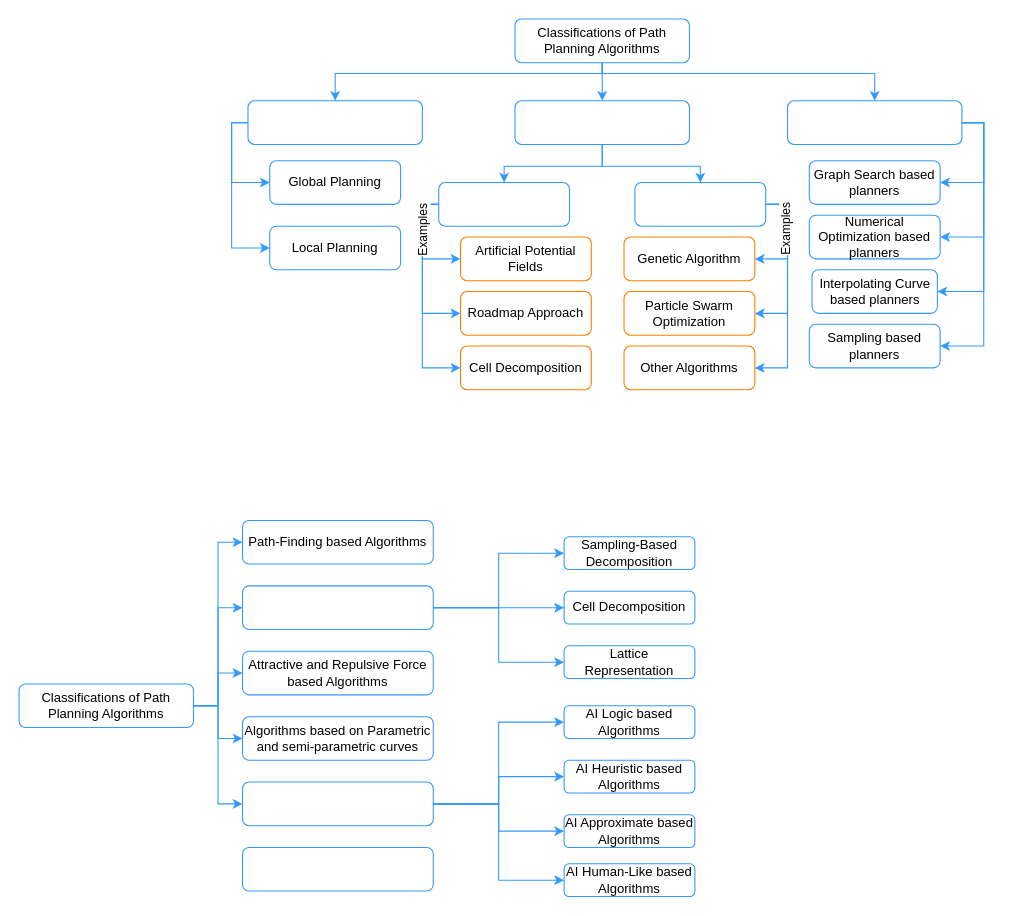
Some shapes in this 1012 by 916 pixel diagram are drawn without their labels. The shapes that lost their labels are listed below. From the top down, each one's centre as x and y in pixels, then its label:
At point (334, 122): "Classification based on scope of planning".
At point (601, 122): "Classification based on approach".
At point (874, 122): "Classification based on Algorithm groups".
At point (504, 203): "Classical Approaches".
At point (700, 203): "Heuristic/Reactive Approaches (using AI)".
At point (337, 607): "Space based Algorithms".
At point (337, 803): "Artifical Intelligence (AI) based Algorithms".
At point (337, 868): "Numerical Optimization based Algorithms".
